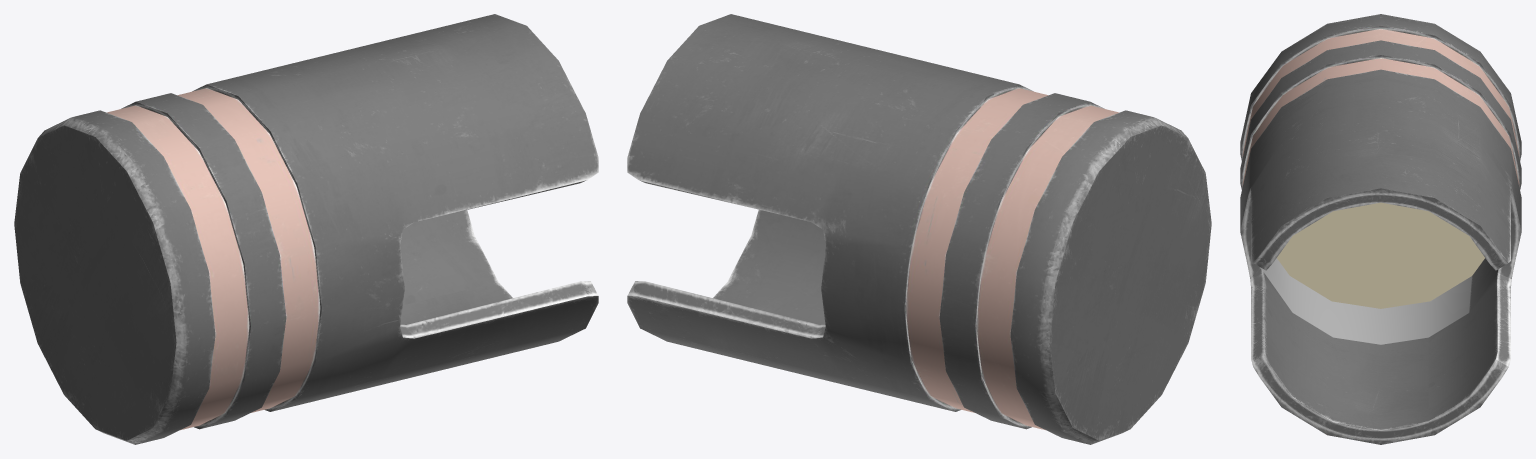
Rendered from guard_3_c_c.glb.
The picture shows the model from 3 angles, left to right: view 1: azimuth 30°, elevation 25°; view 2: azimuth 150°, elevation 25°; view 3: azimuth 270°, elevation 25°; orthographic projection. The views are drawn at different scales.
Visible parts, largest first — view 1: guard_3_c_c_lod0; view 2: guard_3_c_c_lod0; view 3: guard_3_c_c_lod0.
Boxes of the visible parts, x1,y1,x2,y2 form: guard_3_c_c_lod0: (14, 14, 598, 444); guard_3_c_c_lod0: (627, 14, 1211, 444); guard_3_c_c_lod0: (1240, 14, 1521, 444).
Size of what is drawn, in the model's own units: 0.0462 by 0.0311 by 0.0309.
Materials: 1 (1 with a texture image).
